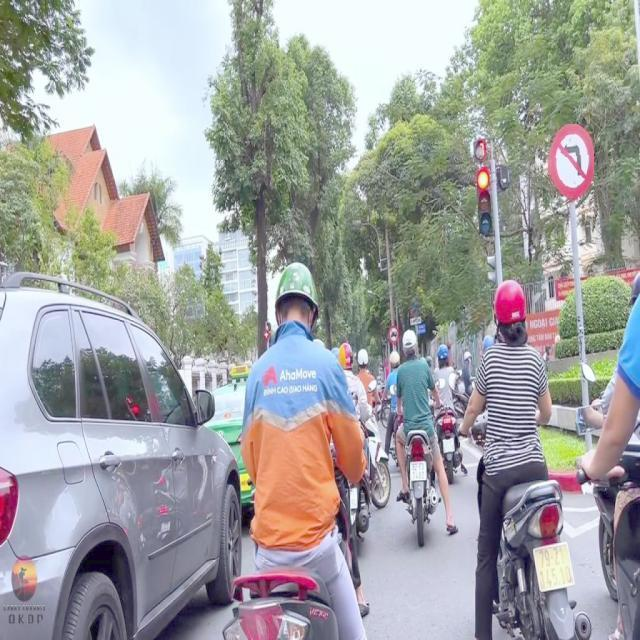106-cam-oto-tai: (387, 326, 399, 342)
123a-cam-re-trai: (548, 124, 596, 198)
